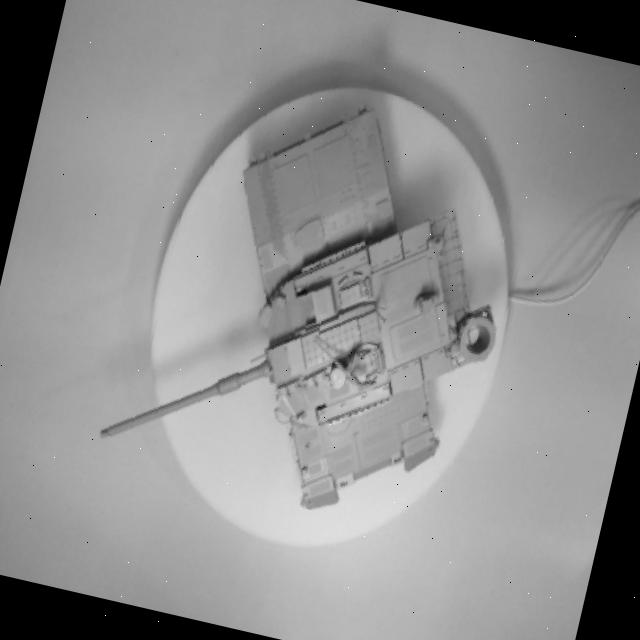korea tank: (62, 41, 557, 572)
